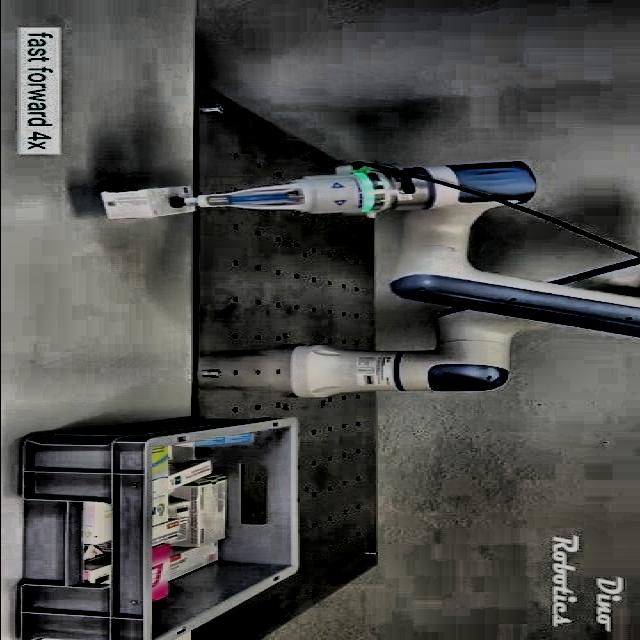robot: (101, 159, 640, 398)
